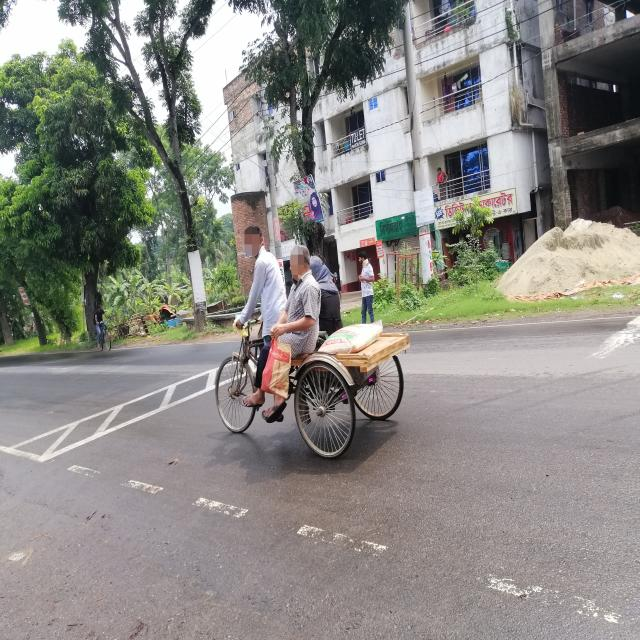Van: (205, 308, 418, 481)
